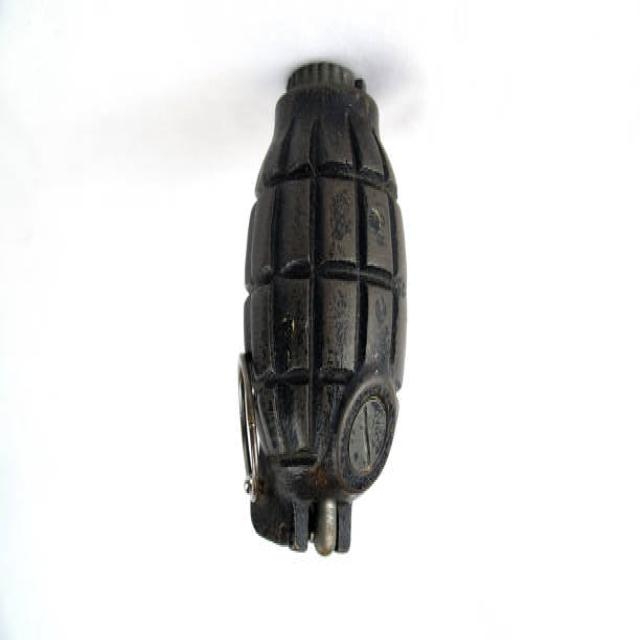grenade: (233, 42, 417, 577)
